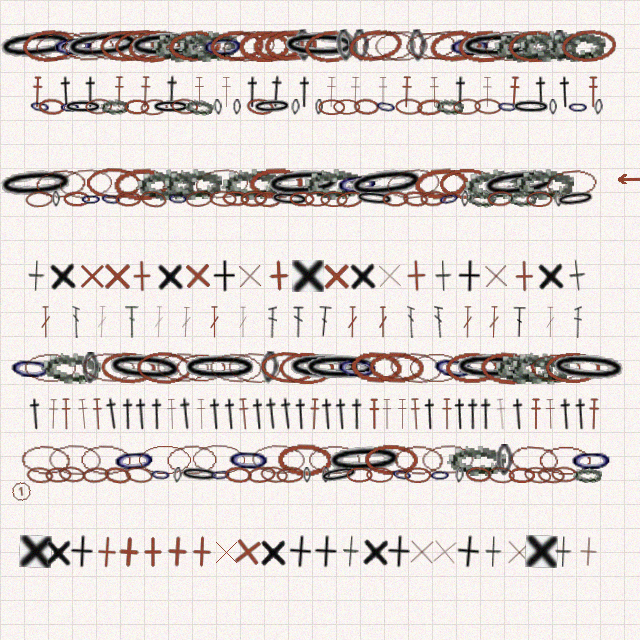chain: (345, 163, 428, 204), (478, 164, 561, 204), (62, 26, 144, 65), (104, 349, 186, 387), (0, 26, 77, 65), (263, 165, 344, 202), (0, 165, 77, 203), (548, 350, 629, 386), (324, 442, 405, 478), (126, 28, 207, 63), (458, 29, 538, 63), (280, 29, 360, 62), (285, 351, 365, 384), (452, 351, 532, 384), (180, 352, 260, 384), (301, 352, 381, 384), (462, 165, 524, 203), (346, 26, 405, 65), (177, 27, 238, 64), (384, 165, 443, 203), (416, 26, 473, 65), (492, 28, 553, 64), (135, 166, 196, 202), (126, 27, 183, 65), (220, 27, 277, 65), (428, 27, 485, 65), (162, 166, 223, 201), (86, 27, 143, 64), (387, 349, 444, 386), (518, 28, 578, 63), (546, 28, 606, 63), (221, 166, 281, 201), (303, 166, 363, 201), (510, 350, 570, 385), (479, 350, 537, 386), (33, 28, 90, 64), (303, 28, 360, 64), (57, 166, 114, 202), (193, 166, 250, 202), (151, 29, 211, 63), (482, 28, 540, 63), (560, 28, 618, 63), (167, 28, 223, 64), (33, 166, 89, 202), (413, 166, 469, 202), (543, 166, 599, 202), (360, 28, 417, 63), (41, 351, 101, 384), (507, 442, 562, 478), (21, 28, 77, 63), (114, 28, 170, 63), (263, 28, 319, 63), (81, 350, 137, 385), (226, 350, 282, 385), (260, 350, 316, 385), (515, 167, 574, 200), (99, 29, 156, 63), (457, 29, 514, 63), (100, 351, 157, 385), (349, 350, 404, 385), (209, 29, 265, 63), (113, 167, 169, 201), (19, 442, 73, 477), (494, 352, 553, 384), (447, 444, 506, 476), (373, 29, 430, 62), (136, 351, 193, 384), (403, 29, 458, 63), (507, 29, 562, 63), (208, 351, 263, 385), (368, 351, 424, 384), (250, 443, 306, 476), (420, 443, 476, 476), (252, 29, 306, 63), (86, 167, 141, 200), (248, 167, 303, 200), (155, 351, 210, 384), (47, 443, 102, 476), (191, 443, 246, 476), (277, 443, 332, 476), (279, 352, 335, 384), (408, 352, 464, 384), (545, 352, 601, 384), (61, 29, 115, 62), (79, 443, 133, 476), (165, 443, 219, 476), (392, 443, 446, 476), (430, 349, 478, 386), (439, 168, 494, 200), (23, 352, 78, 384), (445, 352, 500, 384), (137, 444, 192, 476), (307, 444, 362, 476), (364, 444, 419, 476), (537, 444, 592, 476), (174, 352, 228, 384), (529, 352, 583, 384), (238, 30, 291, 62), (50, 28, 97, 63), (334, 166, 381, 201), (334, 350, 381, 385), (111, 443, 158, 477), (200, 29, 246, 63), (447, 29, 493, 63), (8, 351, 54, 385), (226, 443, 272, 476), (569, 444, 614, 476), (318, 463, 360, 486), (555, 189, 596, 209), (354, 189, 395, 208), (179, 465, 220, 484), (269, 190, 310, 208), (252, 98, 292, 115), (335, 29, 355, 62), (63, 99, 103, 115), (151, 99, 191, 115), (511, 99, 551, 115), (294, 29, 313, 62), (351, 29, 370, 62), (408, 29, 427, 62), (260, 351, 279, 384), (124, 465, 154, 485), (139, 189, 168, 209), (335, 189, 364, 209), (103, 465, 132, 485), (523, 465, 552, 485), (551, 30, 569, 62), (185, 189, 214, 208), (247, 465, 276, 484), (82, 352, 99, 384), (496, 444, 513, 476), (184, 98, 214, 116), (466, 190, 496, 208), (246, 97, 274, 116), (58, 465, 86, 484), (260, 465, 288, 484), (25, 190, 54, 208), (140, 98, 168, 116), (416, 98, 444, 116), (253, 190, 281, 208), (26, 466, 54, 484), (82, 466, 110, 484), (487, 466, 515, 484), (537, 466, 565, 484), (100, 98, 129, 115), (435, 98, 464, 115), (508, 190, 537, 207), (402, 190, 429, 208), (395, 98, 423, 115), (453, 98, 481, 115), (474, 98, 502, 115), (209, 190, 237, 207), (224, 466, 252, 483), (276, 466, 304, 483), (573, 467, 602, 483), (38, 98, 65, 115), (85, 98, 112, 115), (171, 98, 198, 115), (353, 98, 380, 115), (222, 190, 249, 207), (240, 190, 267, 207), (420, 190, 447, 207), (487, 190, 514, 207), (465, 466, 492, 483), (551, 466, 578, 483), (28, 97, 52, 116), (374, 97, 398, 116), (437, 189, 461, 208), (390, 465, 414, 484), (320, 191, 348, 207), (318, 99, 345, 115), (333, 99, 360, 115), (63, 191, 90, 207), (99, 190, 123, 208), (115, 191, 142, 207), (304, 191, 331, 207), (382, 191, 409, 207), (526, 191, 553, 207), (45, 467, 72, 483), (346, 467, 373, 483), (366, 467, 393, 483), (404, 467, 431, 483), (508, 467, 535, 483), (124, 99, 150, 115), (289, 191, 315, 207), (496, 98, 519, 115), (149, 466, 172, 483), (209, 466, 232, 483), (167, 190, 189, 207), (59, 99, 81, 115), (567, 99, 589, 115), (80, 191, 102, 207), (429, 467, 451, 483), (213, 99, 223, 115), (291, 99, 300, 115), (594, 99, 603, 115), (554, 191, 563, 207), (173, 467, 182, 483), (455, 467, 464, 483), (233, 99, 241, 115), (315, 99, 323, 115), (549, 99, 557, 115), (52, 191, 60, 207), (461, 191, 469, 207), (303, 467, 311, 483), (322, 467, 330, 483)
double: (317, 305, 332, 338), (125, 306, 139, 338), (513, 306, 526, 338), (96, 306, 108, 338), (180, 306, 192, 338), (488, 306, 500, 338), (40, 306, 51, 338), (153, 306, 164, 338), (209, 306, 220, 338), (293, 306, 304, 338), (347, 306, 358, 338), (462, 306, 473, 338), (238, 306, 248, 338), (378, 306, 388, 338), (545, 306, 555, 338), (268, 306, 277, 338), (434, 306, 443, 338), (72, 306, 80, 338), (407, 306, 415, 338), (574, 306, 582, 338)
half_double: (266, 75, 287, 108), (102, 397, 123, 430), (162, 75, 182, 108), (176, 397, 196, 430), (262, 397, 282, 430), (277, 397, 297, 430), (81, 76, 100, 108), (243, 76, 262, 108), (295, 76, 314, 108), (451, 76, 470, 108), (26, 398, 45, 430), (132, 398, 151, 430), (206, 398, 225, 430), (221, 398, 240, 430), (249, 398, 268, 430), (318, 398, 337, 430), (332, 398, 351, 430), (509, 398, 528, 430), (57, 76, 75, 108), (532, 76, 550, 108), (556, 76, 574, 108), (119, 398, 137, 430), (148, 398, 166, 430), (292, 398, 310, 430), (348, 398, 366, 430), (421, 398, 439, 430), (451, 398, 469, 430), (464, 398, 482, 430), (477, 398, 495, 430), (557, 398, 575, 430), (572, 398, 590, 430), (494, 398, 509, 430), (76, 398, 90, 430), (237, 398, 251, 430), (31, 76, 44, 108), (139, 76, 152, 108), (400, 76, 413, 108), (508, 76, 521, 108), (91, 398, 104, 430), (165, 398, 178, 430), (308, 398, 321, 430), (409, 398, 422, 430), (113, 76, 125, 108), (193, 76, 205, 108), (220, 76, 232, 108), (325, 76, 337, 108), (349, 76, 361, 108), (377, 76, 389, 108), (428, 76, 440, 108), (481, 76, 493, 108), (587, 76, 599, 108), (47, 398, 59, 430), (60, 398, 72, 430), (195, 398, 207, 430), (368, 398, 380, 430), (381, 398, 393, 430), (396, 398, 408, 430), (441, 398, 453, 430), (530, 398, 542, 430), (544, 398, 556, 430), (588, 398, 600, 430)
noise: (9, 479, 34, 504), (615, 174, 640, 184)
single: (230, 534, 265, 569), (427, 534, 462, 569), (90, 535, 124, 569), (112, 535, 146, 569), (181, 259, 214, 292), (233, 259, 266, 292), (262, 259, 295, 292), (373, 259, 406, 292), (400, 259, 433, 292), (479, 259, 512, 292), (19, 535, 52, 568), (161, 535, 194, 568), (185, 535, 218, 568), (405, 535, 438, 568), (525, 535, 558, 568), (572, 535, 605, 568), (76, 260, 108, 292), (101, 260, 133, 292), (126, 260, 158, 292), (292, 260, 324, 292), (320, 260, 352, 292), (508, 260, 540, 292), (137, 536, 169, 568), (210, 536, 242, 568), (503, 536, 535, 568), (48, 259, 78, 292), (348, 259, 378, 292), (536, 259, 566, 292), (361, 535, 391, 568), (156, 260, 185, 292), (44, 536, 73, 568), (259, 536, 288, 568), (287, 535, 313, 568), (455, 535, 481, 568), (69, 535, 94, 568), (313, 535, 338, 568), (386, 535, 411, 568), (212, 260, 236, 292), (457, 260, 481, 292), (568, 259, 587, 292), (342, 535, 360, 568), (28, 260, 45, 292), (435, 260, 452, 292), (485, 536, 502, 568), (555, 536, 572, 568)
